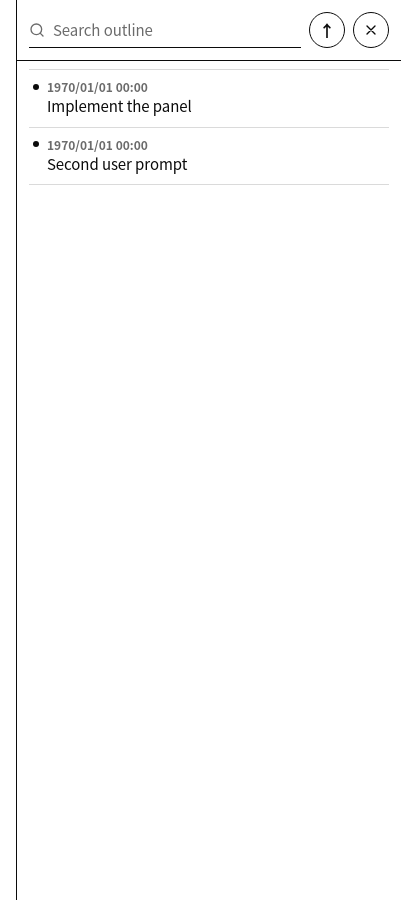
Test case: ConversationOutlinePanel › filters loaded outline items without hiding load earlier
The width and height of the screenshot is (401, 900).
Later steps or results of the test are not shown.
Step 1. Type "SECOND" into the search field named "Search outline items" → (165, 30), box [29,12,301,48]
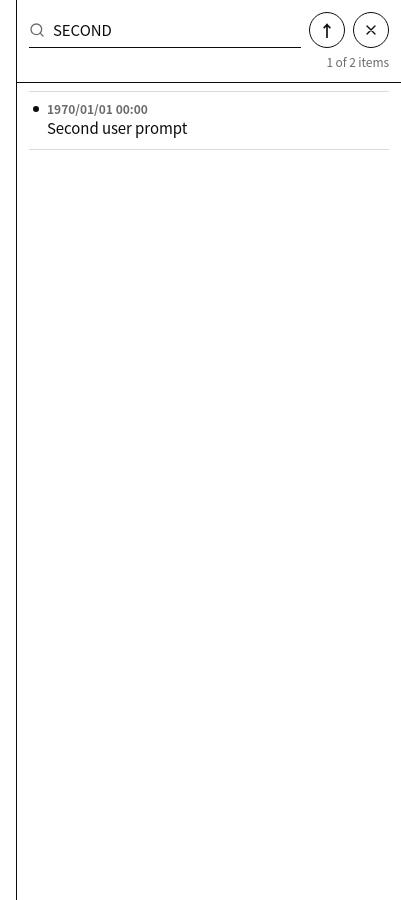
Check: the text "Second user prompt" is shown, box [47,117,187,138]
Check: the button "Implement the panel" is gone
Check: the text "1 of 2 items" is shown, box [326,53,389,70]
